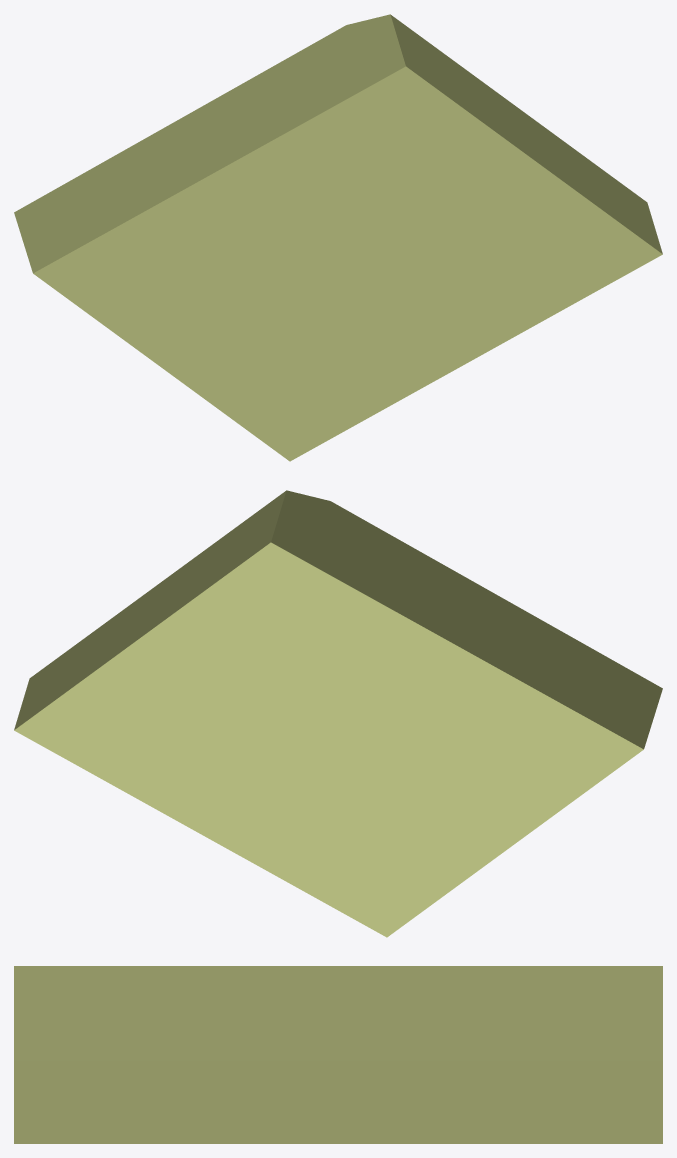
The picture shows the model from 3 angles, top to bottom: view 1: azimuth 30°, elevation 25°; view 2: azimuth 150°, elevation 25°; view 3: azimuth 270°, elevation 25°; orthographic projection. The views are drawn at different scales.
Visible parts, largest first — view 1: 0_2_1_3_3_3_3_2; view 2: 0_2_1_3_3_3_3_2; view 3: 0_2_1_3_3_3_3_2.
Boxes of the visible parts, bbox=[...] form: 0_2_1_3_3_3_3_2: bbox=[14, 14, 662, 461]; 0_2_1_3_3_3_3_2: bbox=[14, 490, 662, 937]; 0_2_1_3_3_3_3_2: bbox=[14, 966, 662, 1143].
Bounding box in the file's own units: 7.93 × 3.32 × 9.
